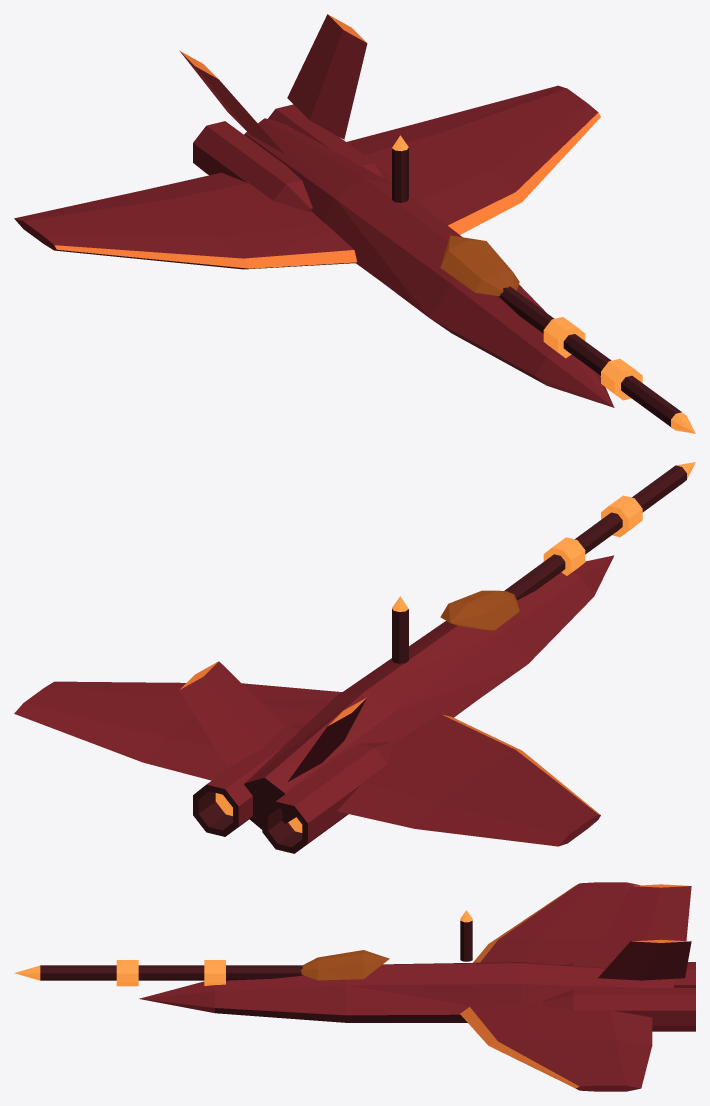
The model's file is arcwing-sniper-hull.gltf.
3 views of the same model, one above another, from view 1: azimuth 30°, elevation 25°; view 2: azimuth 150°, elevation 25°; view 3: azimuth 270°, elevation 25° (orthographic). The views are drawn at different scales.
Visible parts, largest first — view 1: arcwing-sniper; view 2: arcwing-sniper; view 3: arcwing-sniper.
Boxes of the visible parts, x1,y1,x2,y2 form: arcwing-sniper: (14, 14, 695, 433); arcwing-sniper: (14, 462, 695, 853); arcwing-sniper: (14, 882, 695, 1091).
Bounding box in the file's own units: 2.2 × 0.568 × 3.12.
